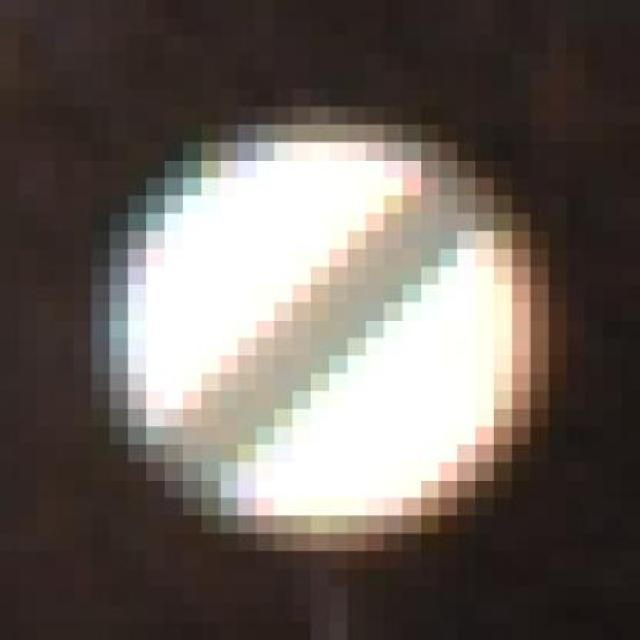End of all speed and passing limits: (110, 89, 567, 552)
